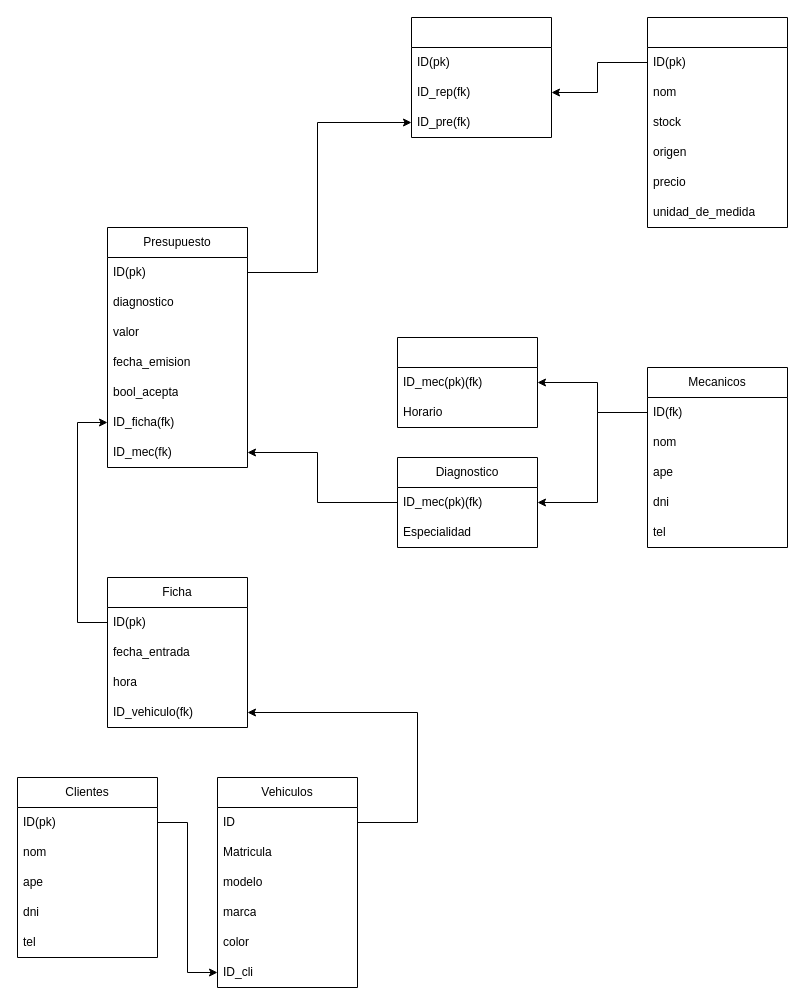
Some shapes in this 805 by 1005 pixel diagram are drawn without their labels. Each missing label, with the box of its shape:
Reparacion: (396, 336, 538, 428)
Repuestos: (646, 16, 788, 228)
RepXPre: (410, 16, 552, 138)
